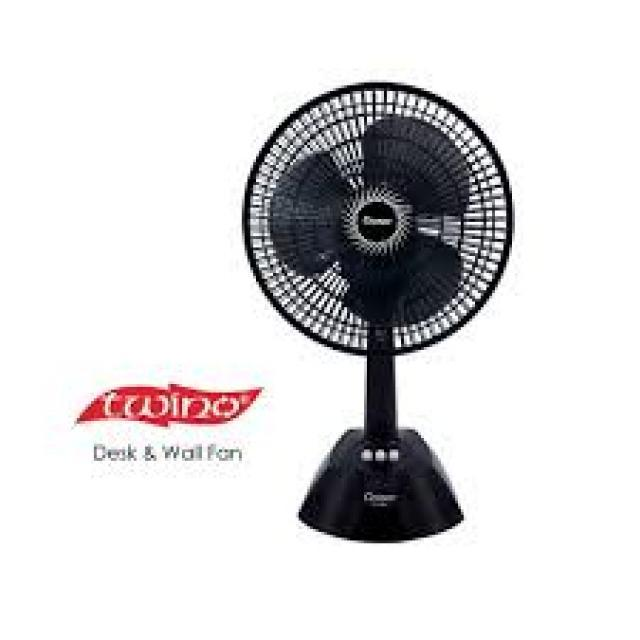fan: (222, 50, 546, 568)
